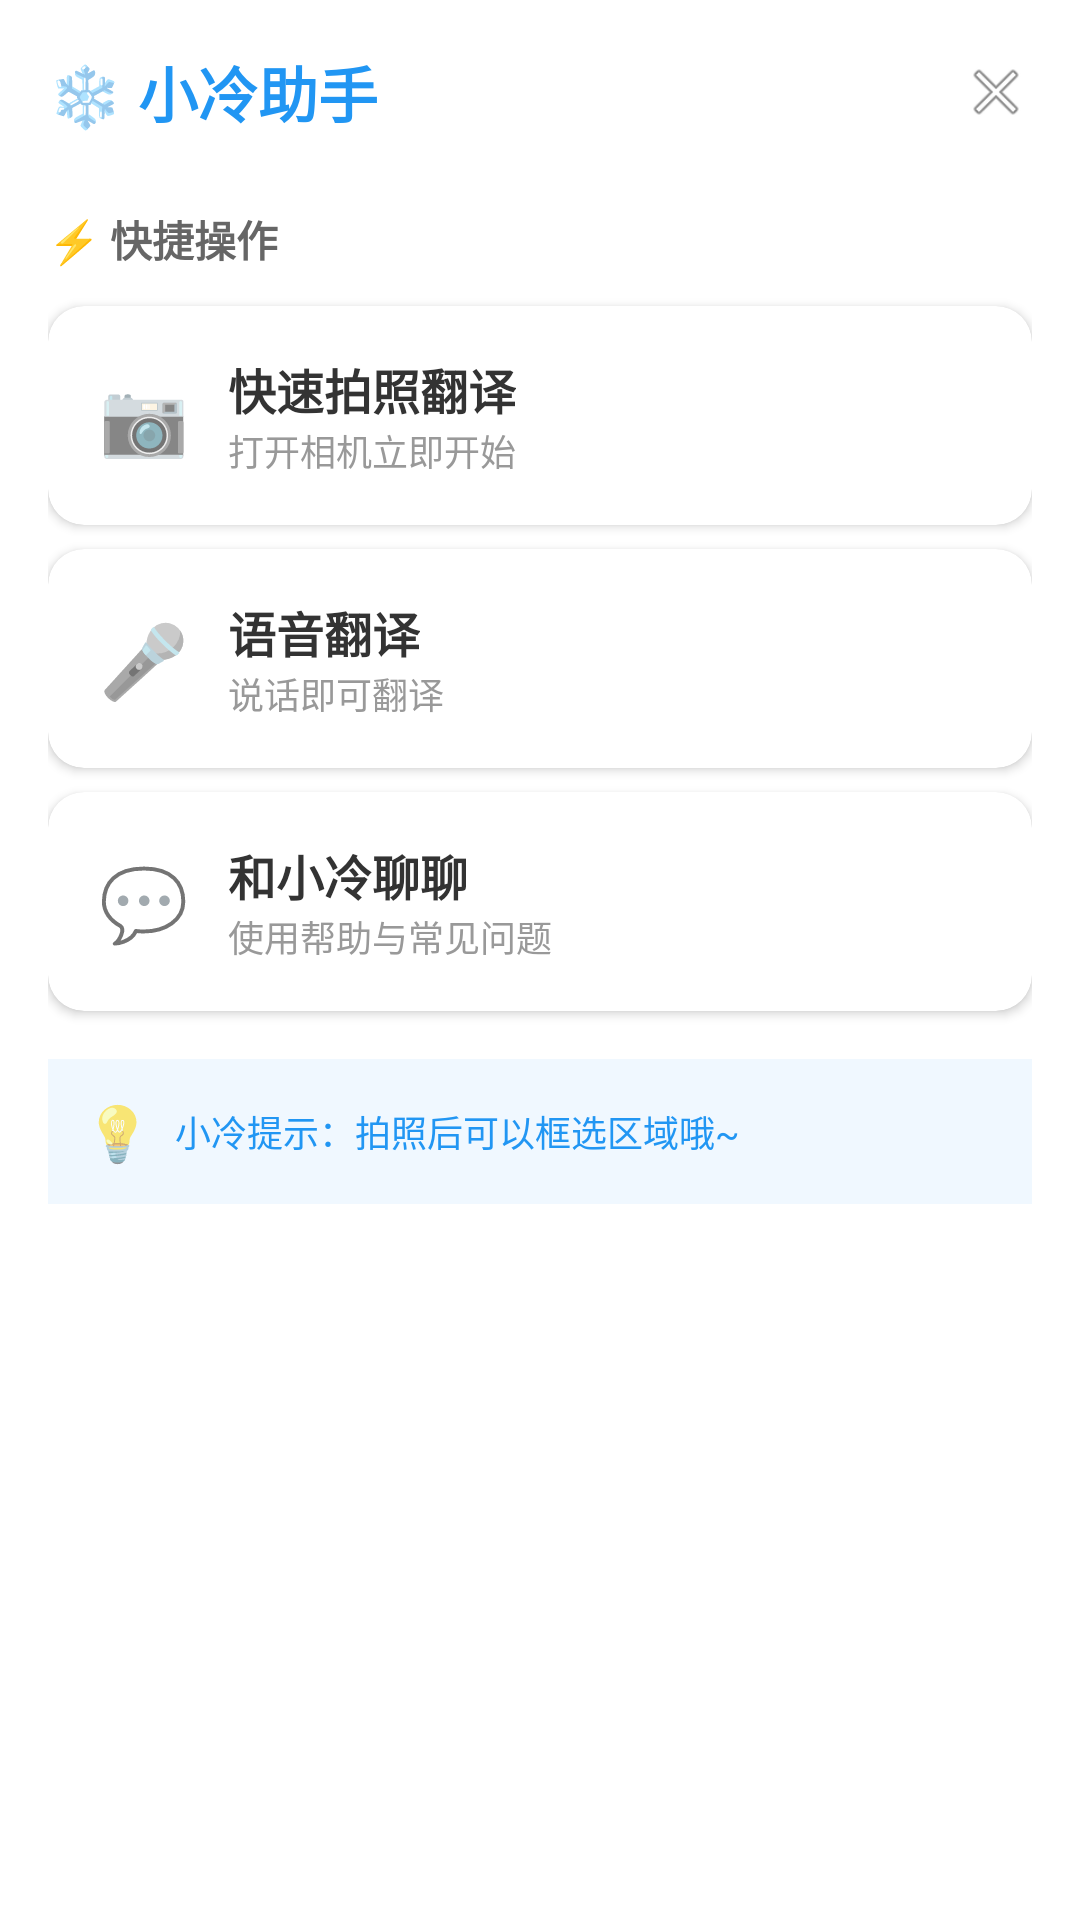

Icons on this 1080 x 1920 Android screen, each with its box as (x1, y1, x2, y2):
关闭: (973, 69, 1019, 115)
